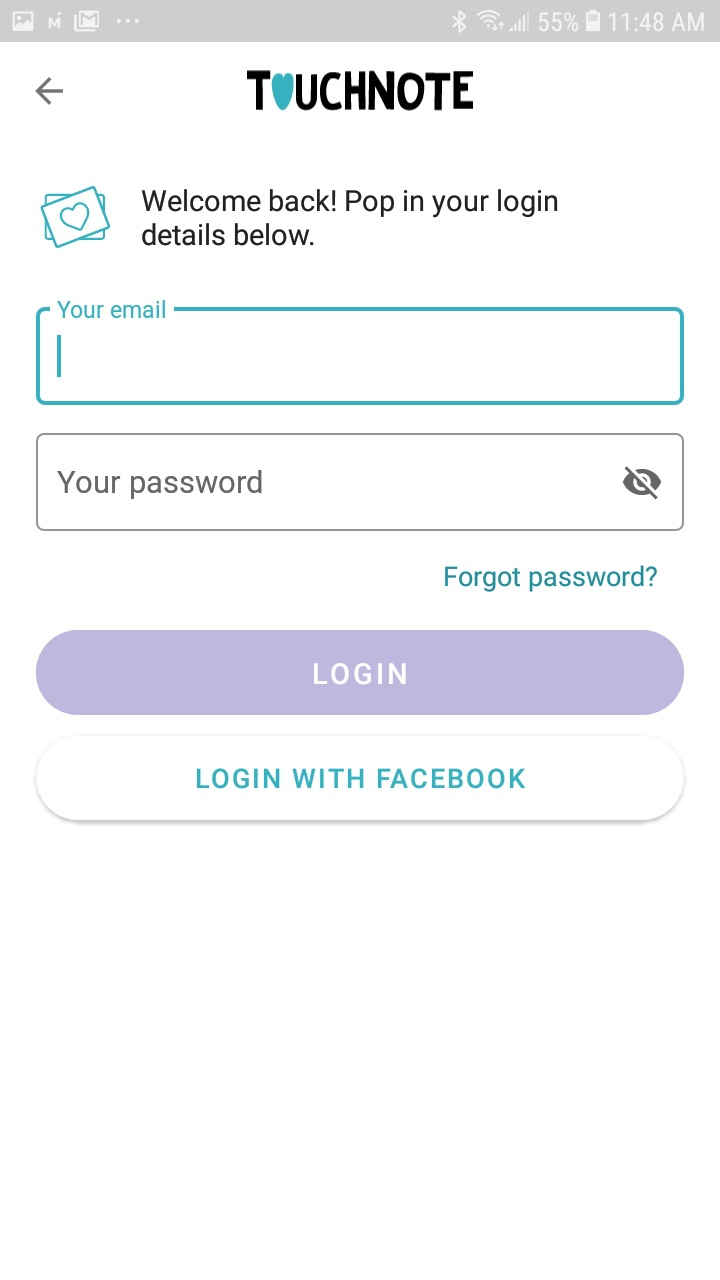EditText: (37, 300, 685, 406), (37, 433, 685, 532)
Icon: (623, 466, 662, 501), (35, 78, 64, 106)
Image: (247, 70, 474, 112), (41, 186, 111, 249)
Text: (142, 189, 558, 247), (57, 470, 263, 500), (445, 565, 658, 593), (57, 300, 167, 320)
TextButton: (36, 733, 686, 821), (36, 630, 685, 716)
UpperTaskBar: (1, 1, 720, 43)
